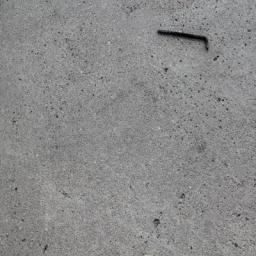FOD: (157, 26, 212, 54)
